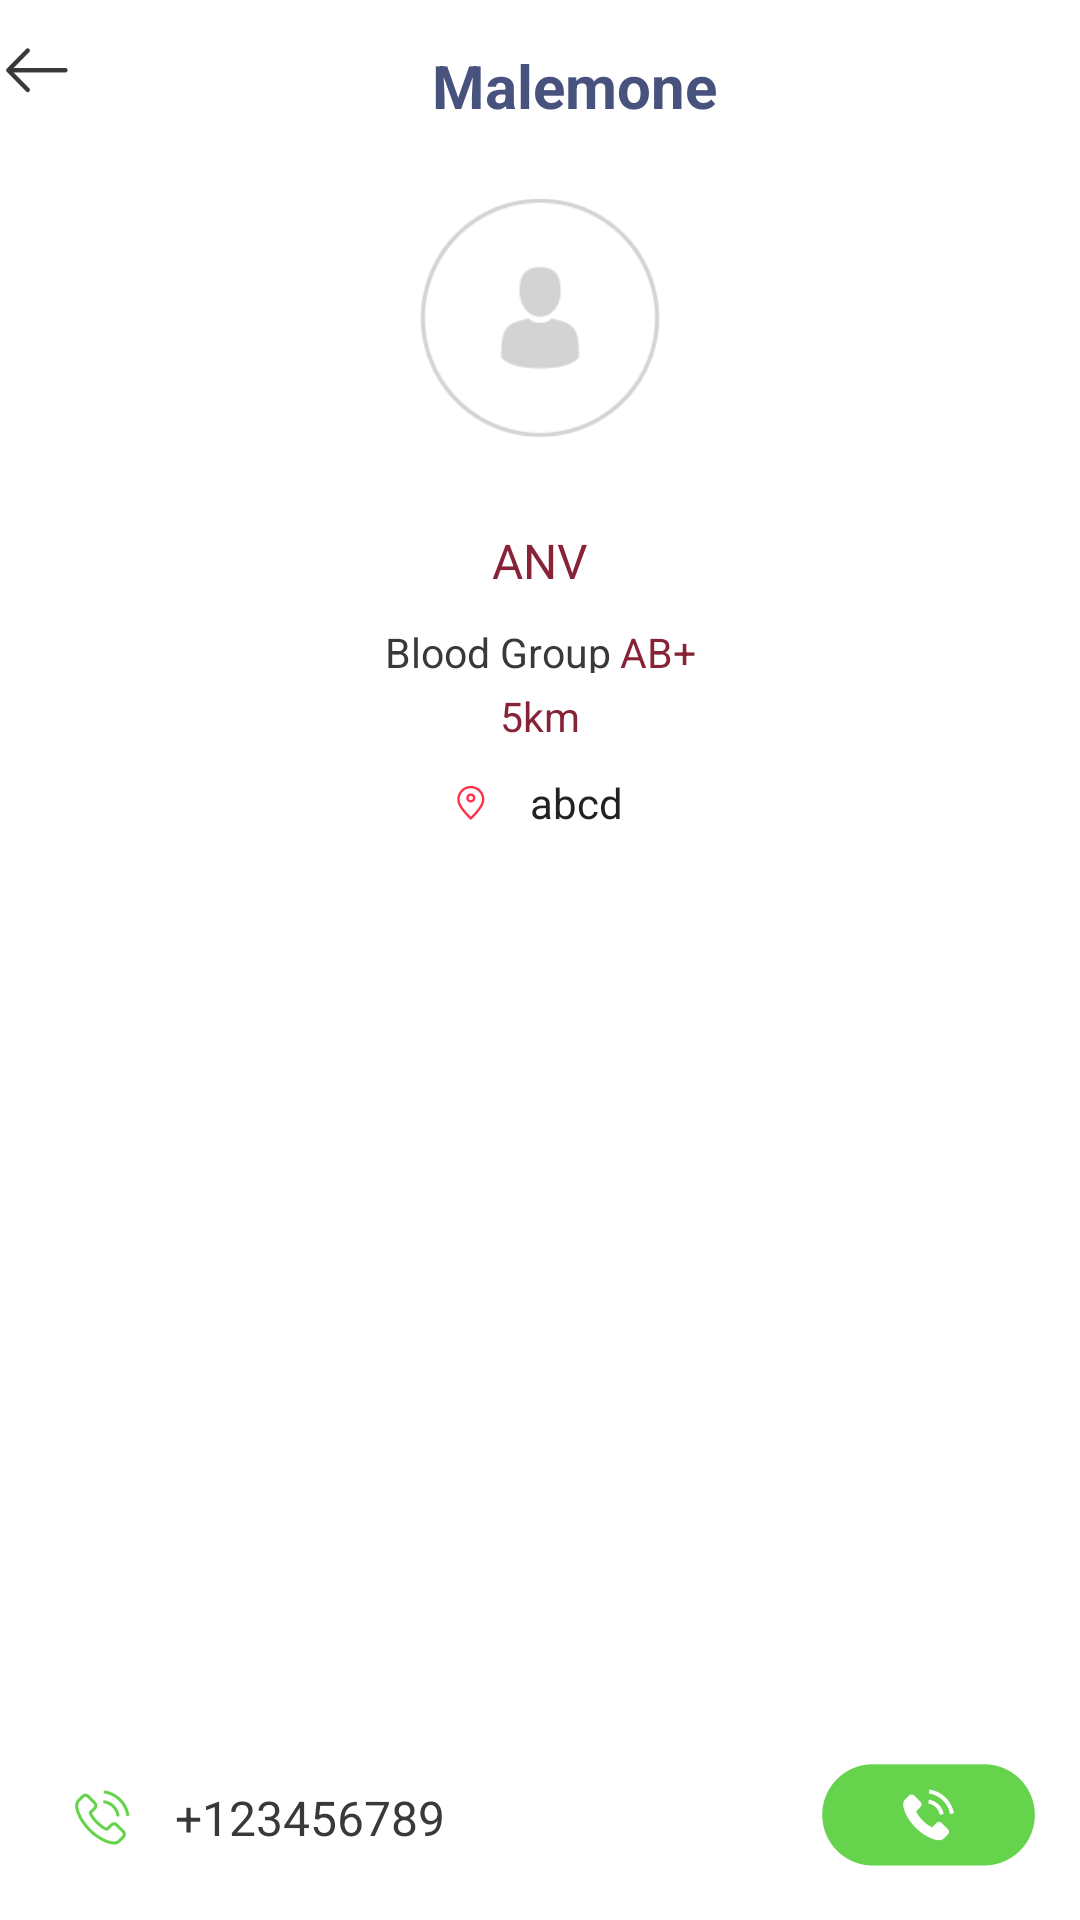

Where to tap for icons on this 1080 x 1920 app screen, as (x=x, y=y):
back: (x=37, y=70)
call: (x=928, y=1815)
prof pic: (x=540, y=318)
